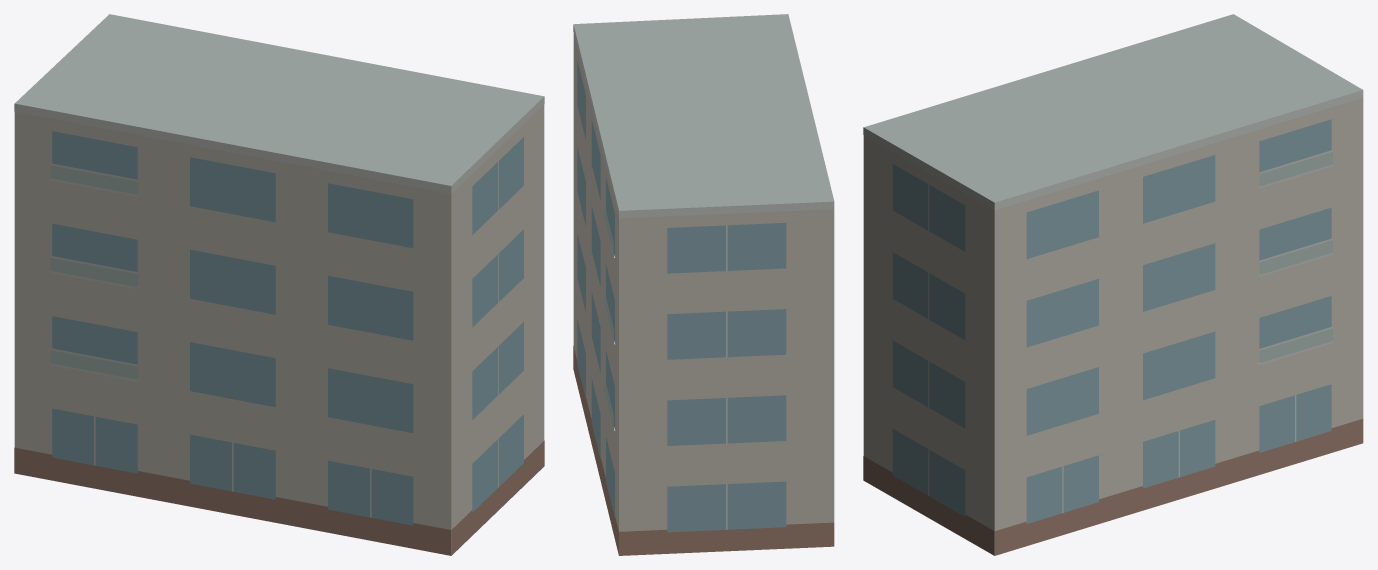
File: survey-upis-32748906.glb
3 views of the same model, side by side, from view 1: azimuth 30°, elevation 25°; view 2: azimuth 150°, elevation 25°; view 3: azimuth 270°, elevation 25° (orthographic). The views are drawn at different scales.
Visible parts, largest first — view 1: survey-upis-32748906.tmp; view 2: survey-upis-32748906.tmp; view 3: survey-upis-32748906.tmp.
Boxes of the visible parts, left/top/right/bottom form: survey-upis-32748906.tmp: left=14, top=14, right=544, bottom=555; survey-upis-32748906.tmp: left=573, top=14, right=834, bottom=555; survey-upis-32748906.tmp: left=863, top=14, right=1363, bottom=555.
Bounding box in the file's own units: 12.95 × 11.3 × 14.5.
